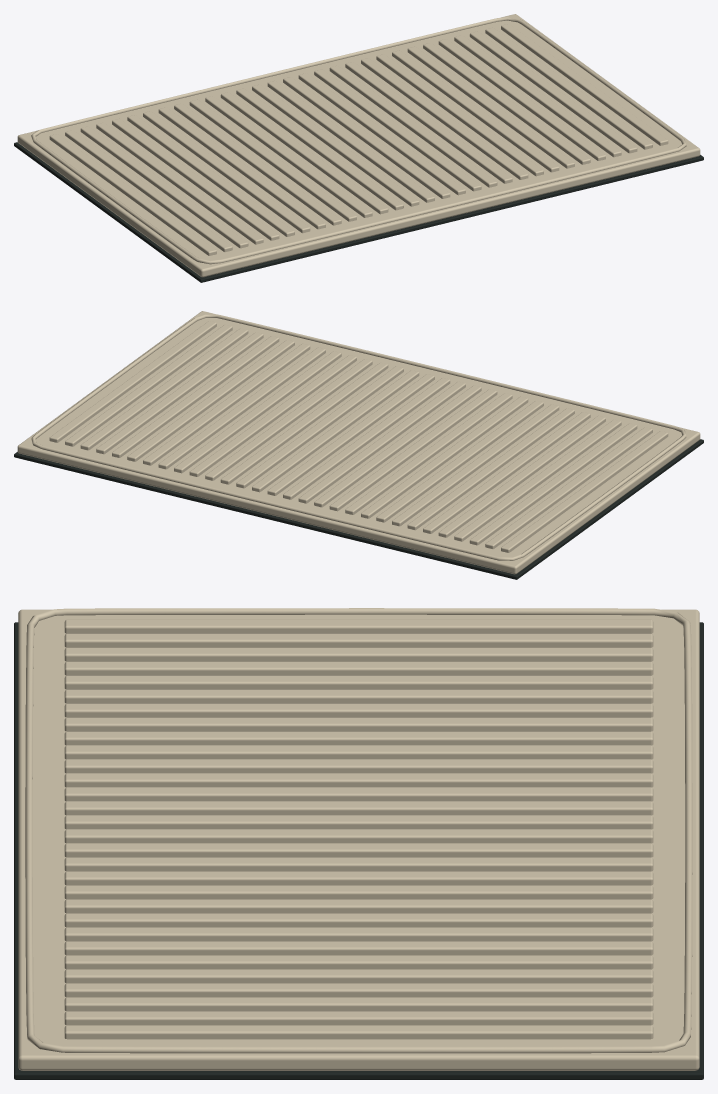
Rendered from bath-cotton-mat.glb.
3 views of the same model, one above another, from view 1: azimuth 30°, elevation 25°; view 2: azimuth 150°, elevation 25°; view 3: azimuth 270°, elevation 25° (orthographic). The views are drawn at different scales.
Parts seen in each view (by area): view 1: linen_surfaces, dark_surfaces; view 2: linen_surfaces, dark_surfaces; view 3: linen_surfaces, dark_surfaces.
Part boxes in pixels (x1,y1,x2,y2): linen_surfaces: [17, 14, 700, 277]; dark_surfaces: [14, 142, 703, 282]; linen_surfaces: [17, 311, 700, 574]; dark_surfaces: [14, 439, 703, 579]; linen_surfaces: [18, 608, 699, 1070]; dark_surfaces: [14, 622, 703, 1079].
Size of the model in its own units: 0.76 by 0.0225 by 0.49.
